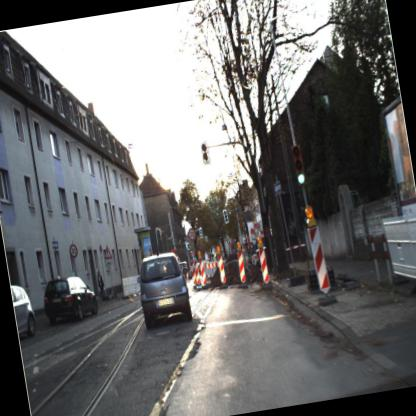danger: (99, 239, 115, 264)
prohibitory: (185, 223, 199, 245), (68, 242, 80, 260)
